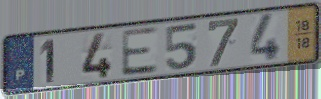1: (39, 38, 56, 84)
4: (248, 12, 283, 65), (80, 31, 114, 80)
5: (164, 21, 200, 72)
7: (206, 16, 241, 68)
E: (119, 25, 160, 78)
